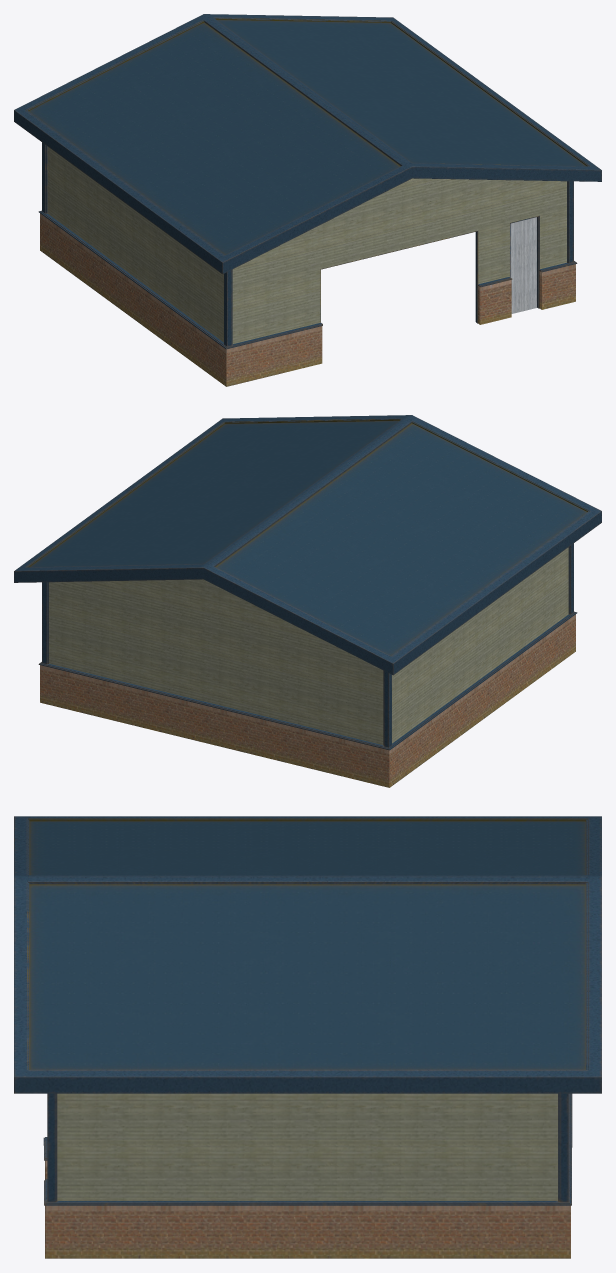
The model's file is garage.fbx.
The picture shows the model from 3 angles, top to bottom: view 1: azimuth 30°, elevation 25°; view 2: azimuth 150°, elevation 25°; view 3: azimuth 270°, elevation 25°; orthographic projection. The views are drawn at different scales.
Parts seen in each view (by area): view 1: model; view 2: model; view 3: model.
Part boxes in pixels (left/top/right/bottom): model: left=14, top=14, right=601, bottom=386; model: left=14, top=415, right=601, bottom=787; model: left=14, top=816, right=601, bottom=1258.
Size of the model in its own units: 964 by 451 by 918.
Materials: 1 (1 with a texture image).
